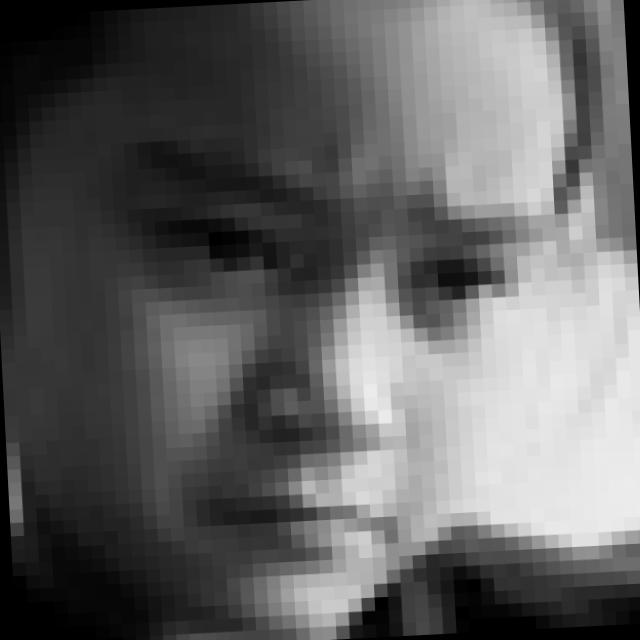sad: (97, 126, 558, 592)
